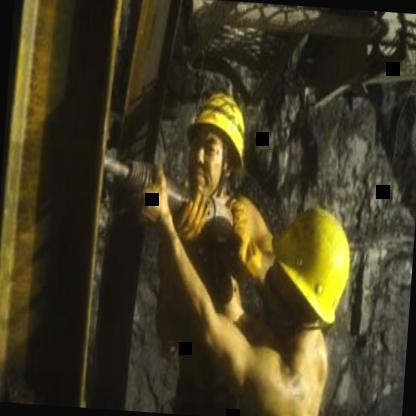helmet: (250, 199, 358, 362), (177, 78, 258, 214)
